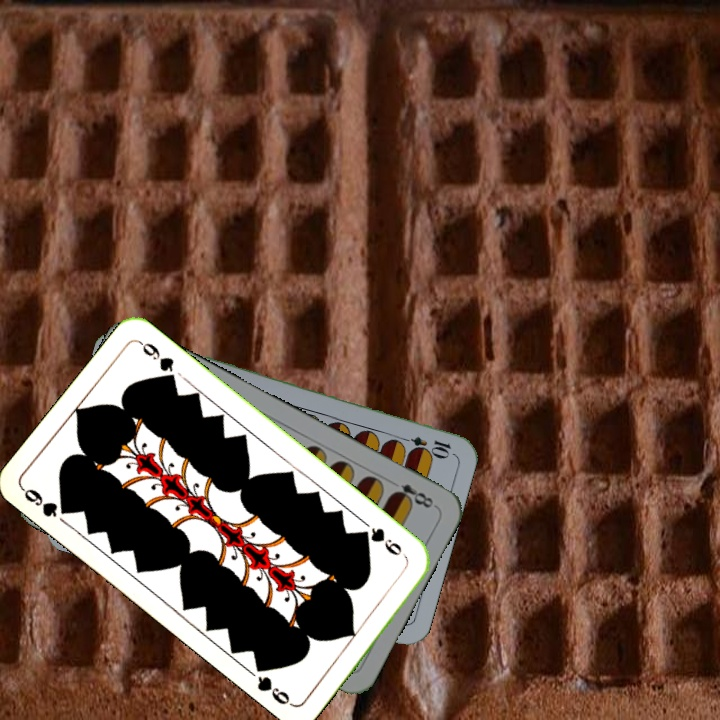E10: (394, 432, 454, 458)
E8: (385, 475, 439, 511)
G9: (357, 523, 411, 563), (18, 484, 75, 520)
